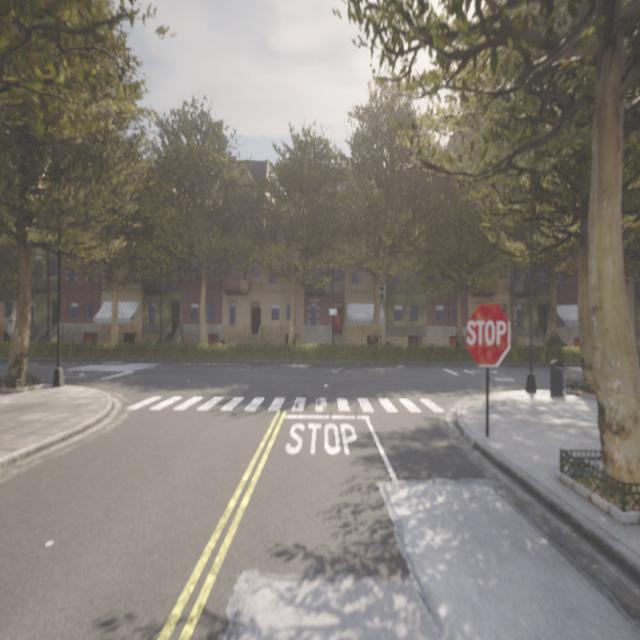stop sign: (463, 300, 513, 369), (466, 317, 507, 348)
